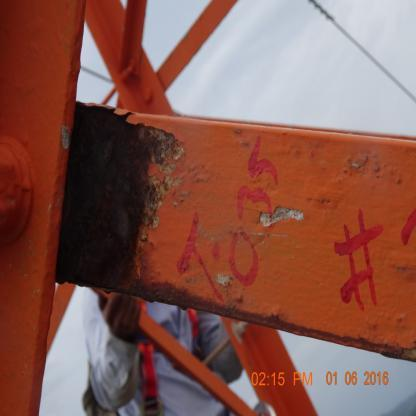Grado3: (51, 90, 169, 296)
